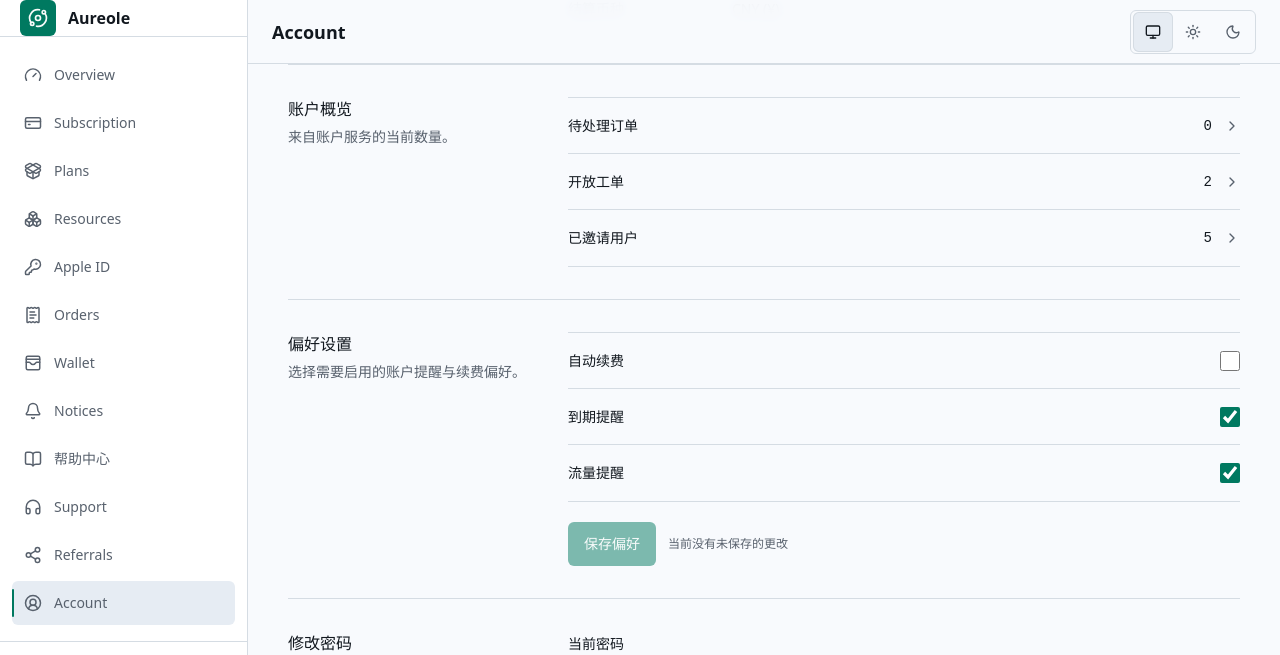
it: Account self-service › keeps the session and shows PREFERENCES_UPDATE_FAILED safely
(page scrolled)
Click the checkbox labelled "自动续费": x=1230, y=360 [1220,350,1240,370]
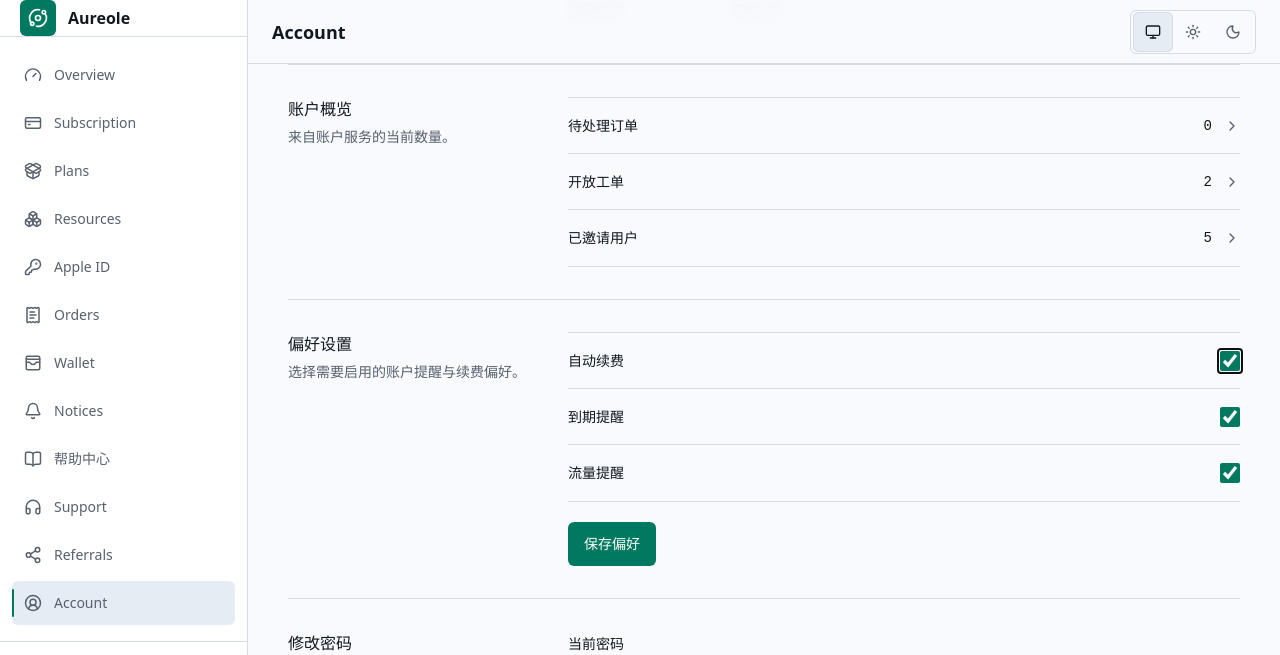
Click the button "保存偏好": x=612, y=544 [568,522,656,566]
(page scrolled)
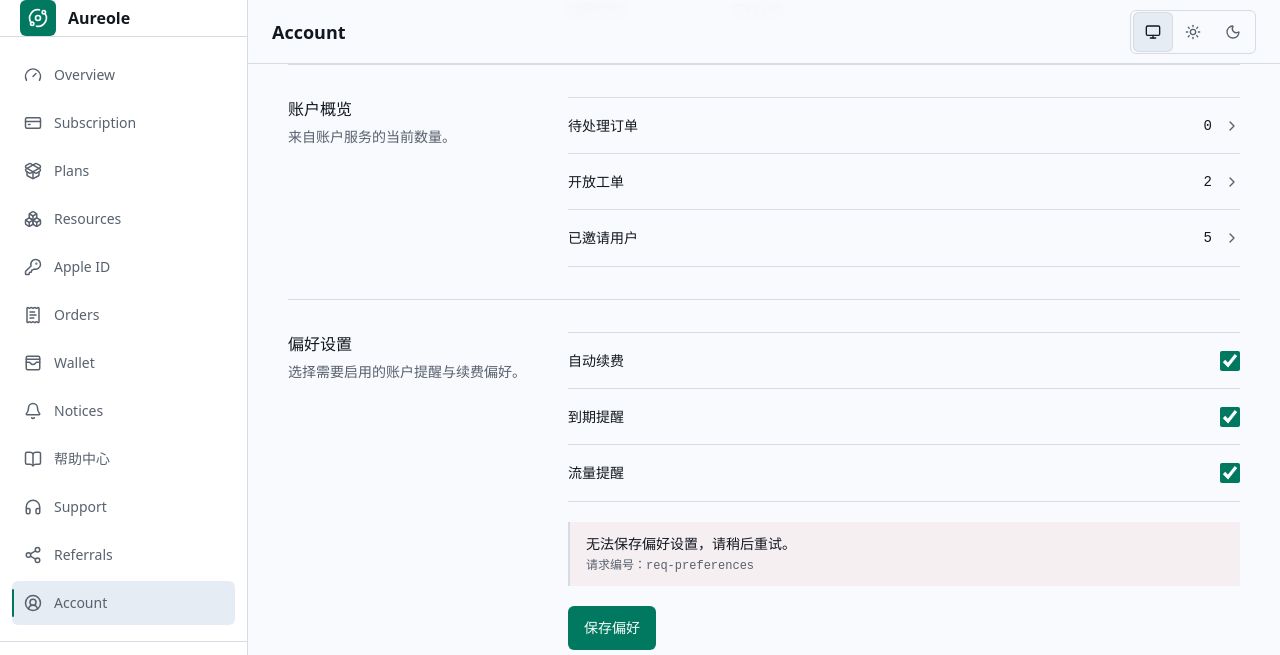
Now the text "无法保存偏好设置，请稍后重试。" is shown, box [586,534,796,553]
Now the text "请求编号：req-preferences" is shown, box [586,559,754,573]
